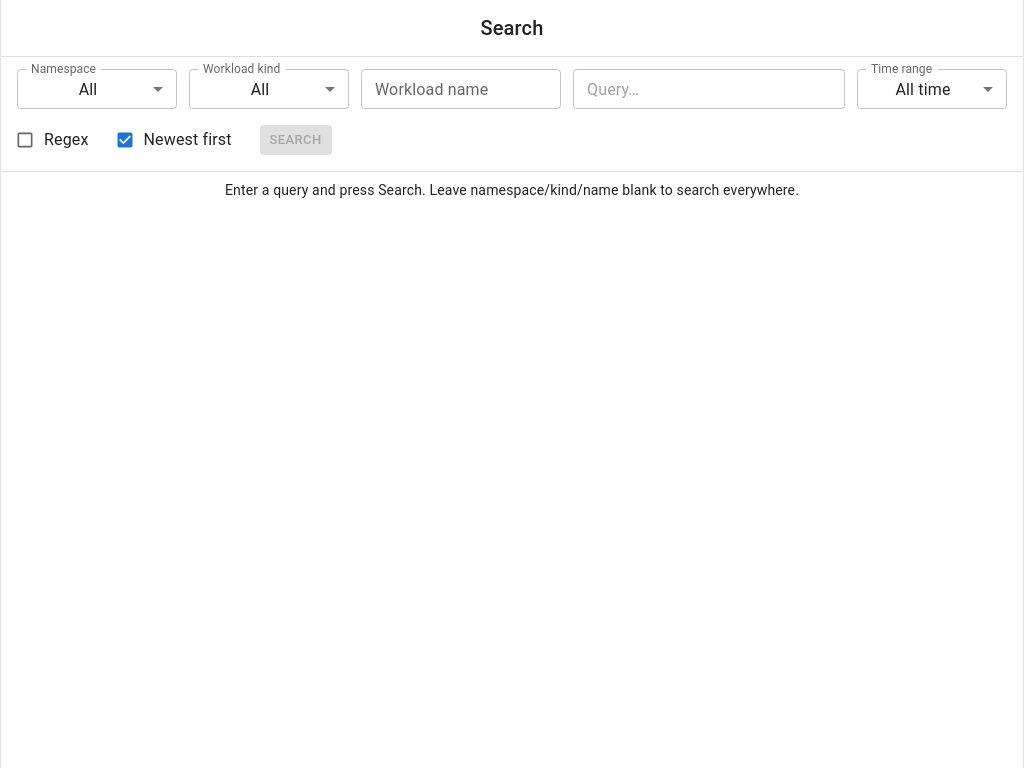
Test case: SearchPage › renders streamed results with a namespace/pod/container chip and a truncated notice
Type "boom" into the field with placeholder "Query…" at (709, 89), box [573,69,845,109]
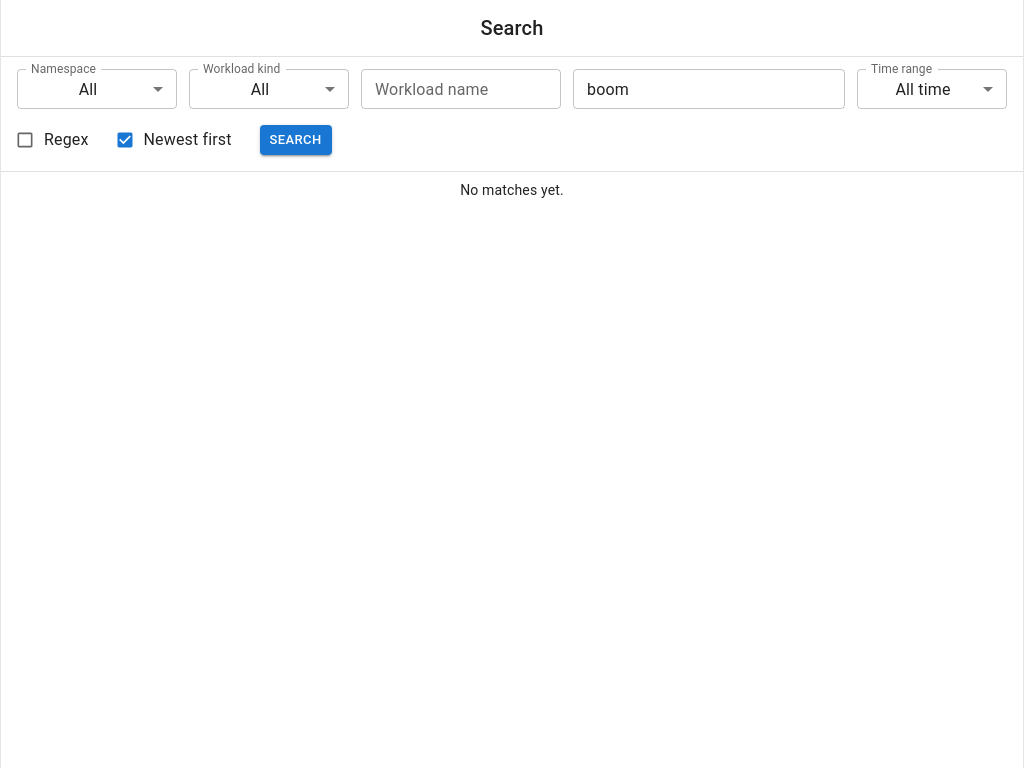
Click the button "Search" at (296, 140), box [260,125,332,155]
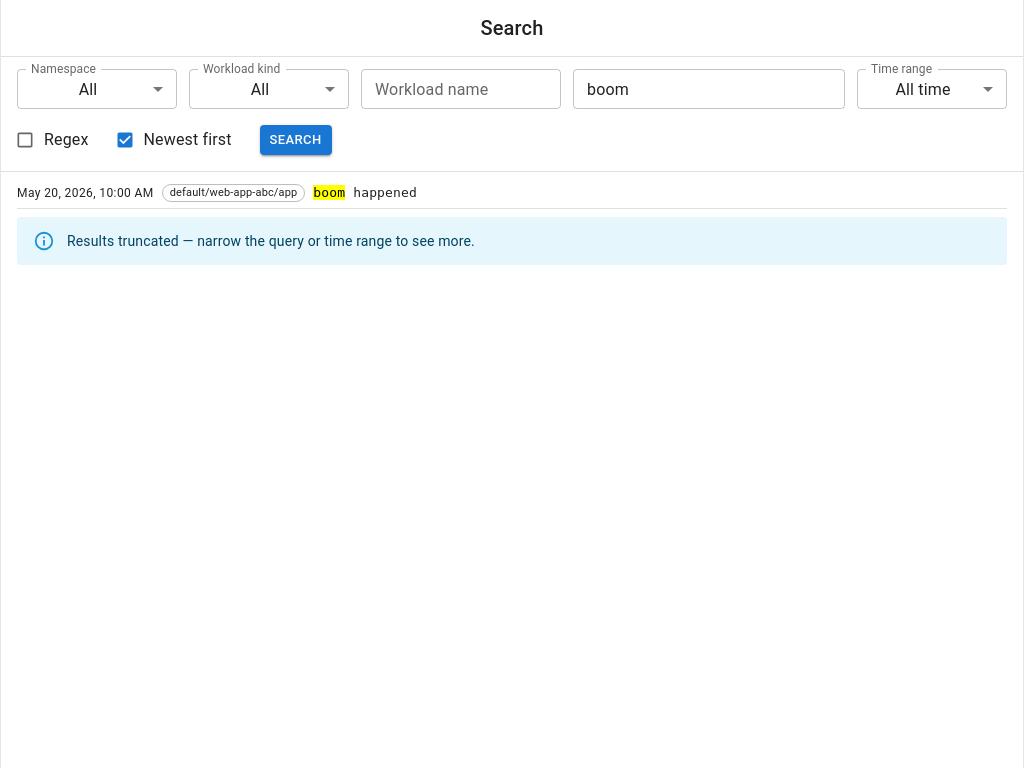
Result: the text "default/web-app-abc/app" is shown at [163,185,304,201]
Result: the text "truncated" is shown at [67,233,475,249]
